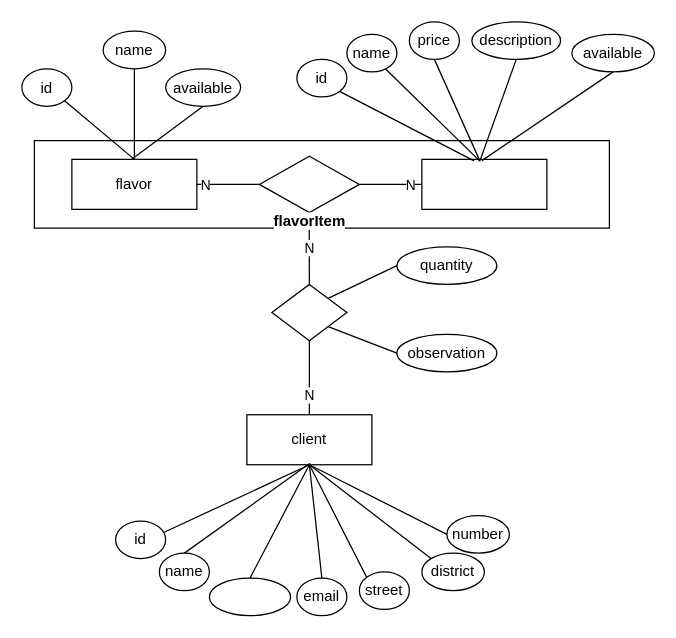
Some shapes in this 676 by 638 pixel diagram are drawn without their labels. The shapes that lost their labels are listed below. From the top down, each one's centre as x and y in pixels, then its label:
At [308,183]: "has".
At [484,183]: "Item".
At [309,312]: "pedido".
At [249,596]: "password".
